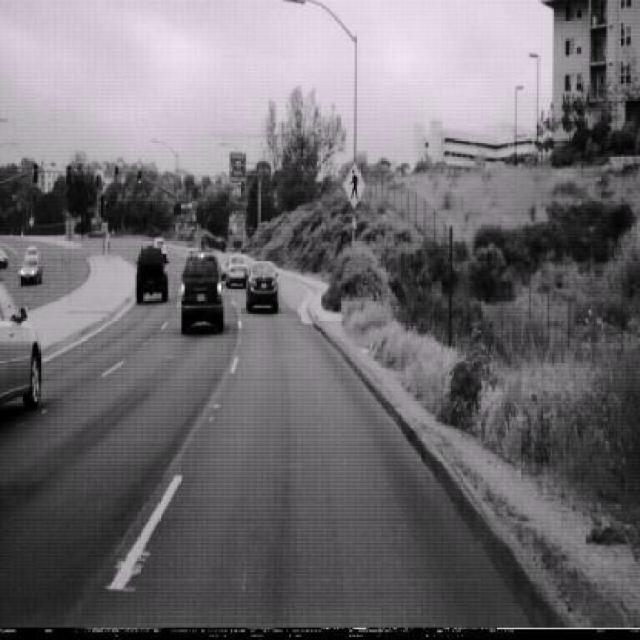pedestrianCrossing: (342, 160, 366, 210)
